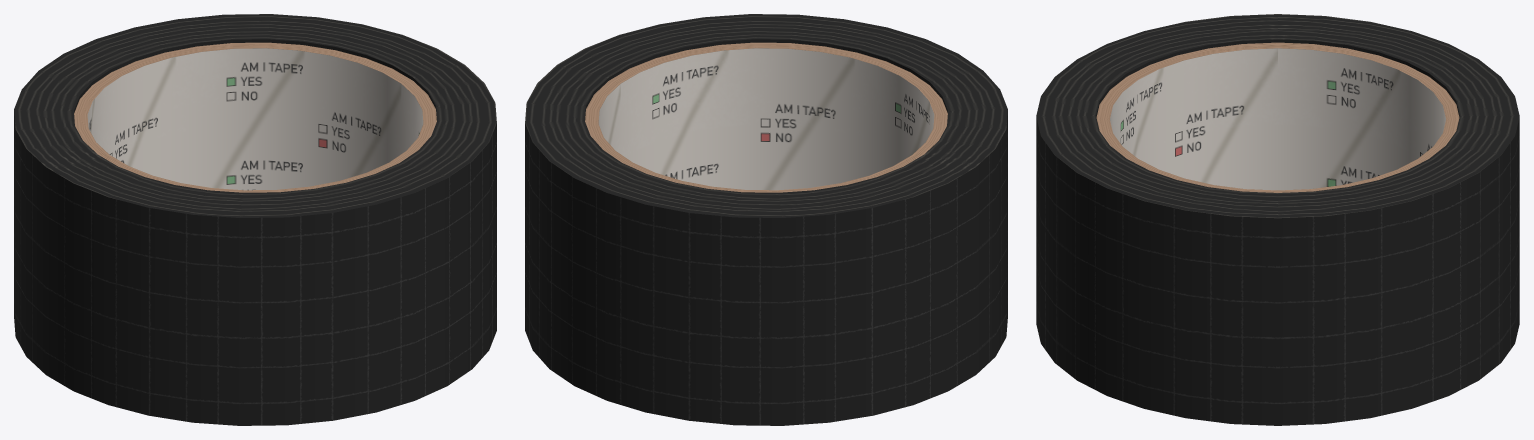
File: Tape_Gaffa.fbx
3 views of the same model, side by side, from view 1: azimuth 30°, elevation 25°; view 2: azimuth 150°, elevation 25°; view 3: azimuth 270°, elevation 25° (orthographic).
Visible parts, largest first — view 1: Tape_Gaffa; view 2: Tape_Gaffa; view 3: Tape_Gaffa.
Boxes of the visible parts, x1,y1,x2,y2 form: Tape_Gaffa: (14, 14, 496, 425); Tape_Gaffa: (525, 14, 1007, 425); Tape_Gaffa: (1036, 14, 1519, 425).
Size of the model in its own units: 105 by 105 by 50.
